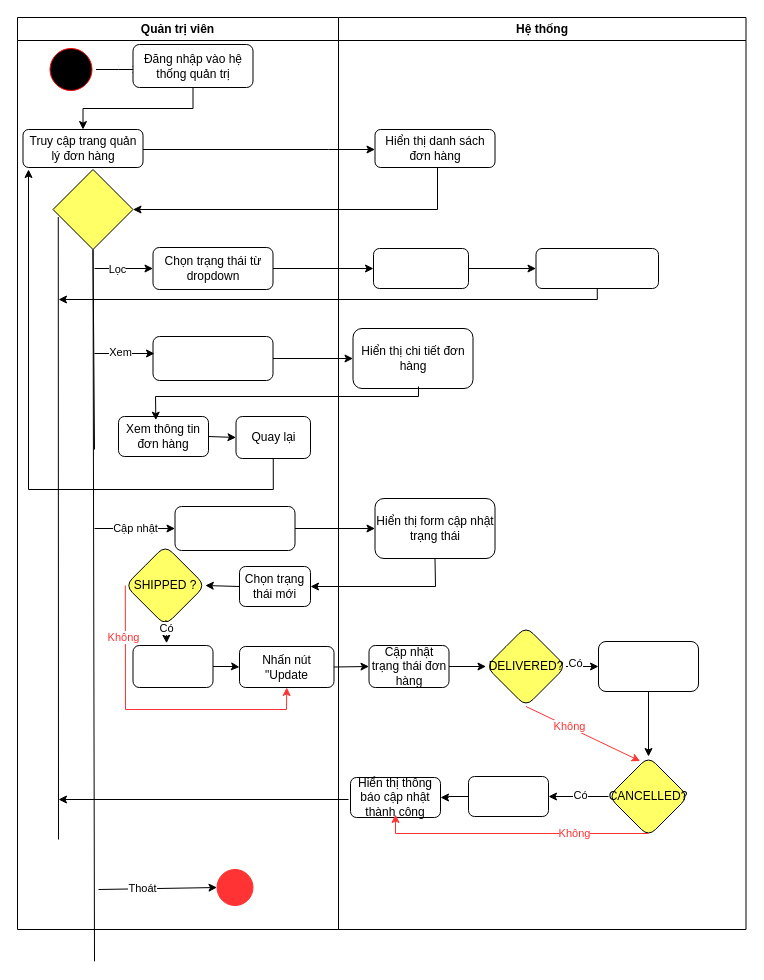
The diagram is 764 pixels wide and 980 high, and some of its shapes have lost their labels. Each missing label, with the centre of its shape:
Chọn hành động ?: (x=92, y=209)
Cập nhật ngày giao hàng: (x=648, y=666)
Hiển thị danh sách đơn hàng đã lọc: (x=596, y=268)
Khôi phục số lượng tồn kho: (x=508, y=796)
Lọc đơn hàng theo trạng thái: (x=420, y=268)
Nhấp nút Update Status của đơn hàng: (x=234, y=528)
Nhấp nút View của đơn hàng: (x=212, y=358)
Nhập mã vận đơn: (x=172, y=666)
